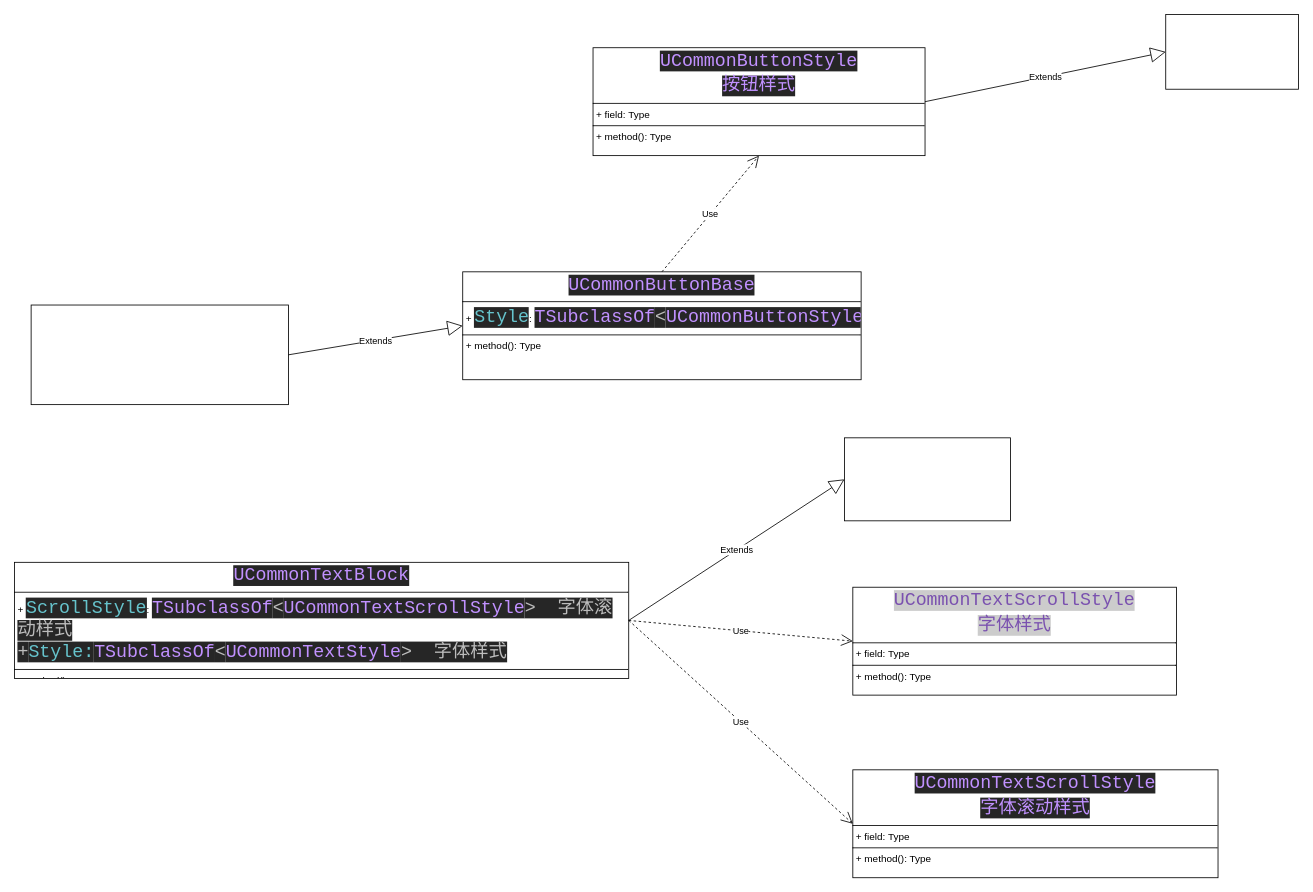
Image size: 1313x892. Some labels were removed from this diagram. Each missing label, with the box of its shape:
ULyraButtonBase + field: Type + method(): Type: (30, 304, 288, 405)
UObject + field: Type + method(): Type: (1165, 14, 1299, 89)
UTextBlock + field: Type + method(): Type: (844, 437, 1011, 521)
